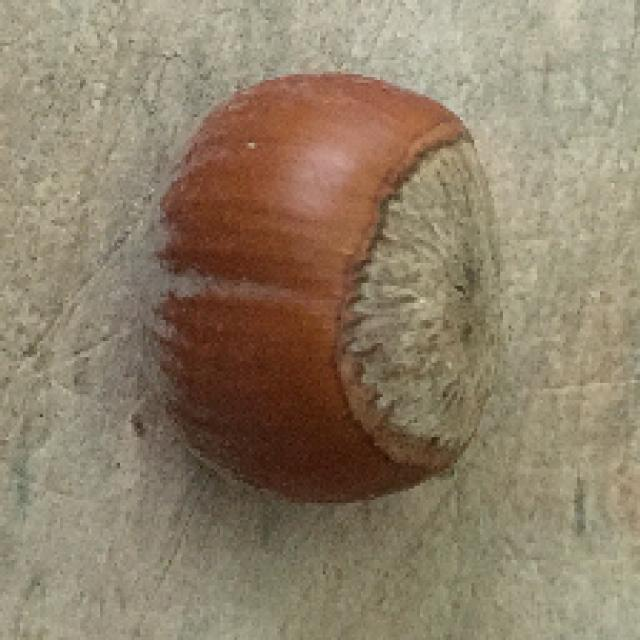qualityHazelnut: (135, 69, 499, 499)
